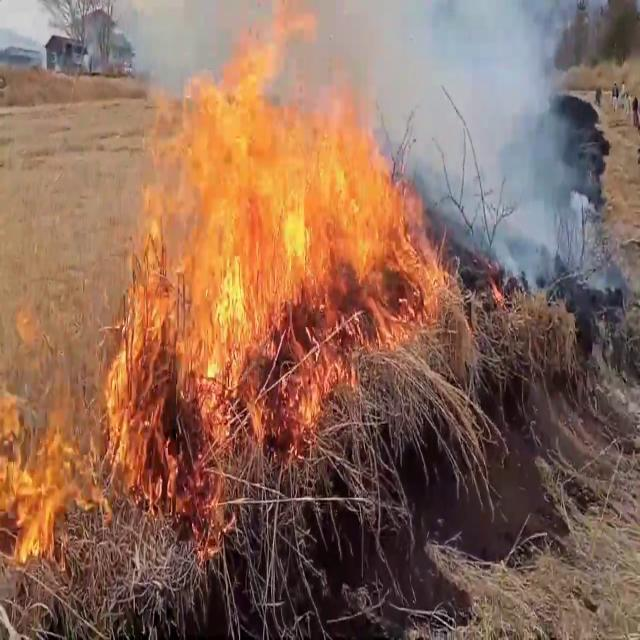Fire: (102, 9, 460, 475), (0, 340, 96, 580)
Smoke: (338, 0, 602, 269)
